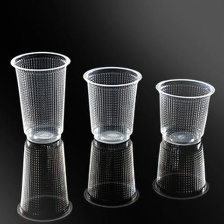glass: (6, 43, 73, 144), (10, 134, 74, 224), (79, 64, 145, 149), (152, 74, 215, 149), (81, 136, 142, 208), (148, 136, 214, 201)
